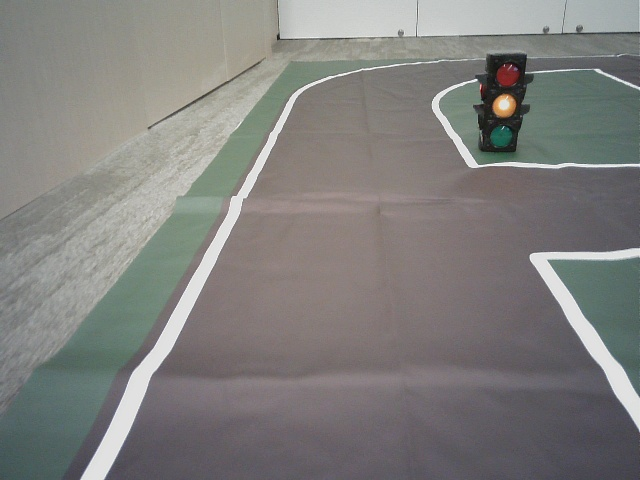yellow: (487, 57, 520, 147)
